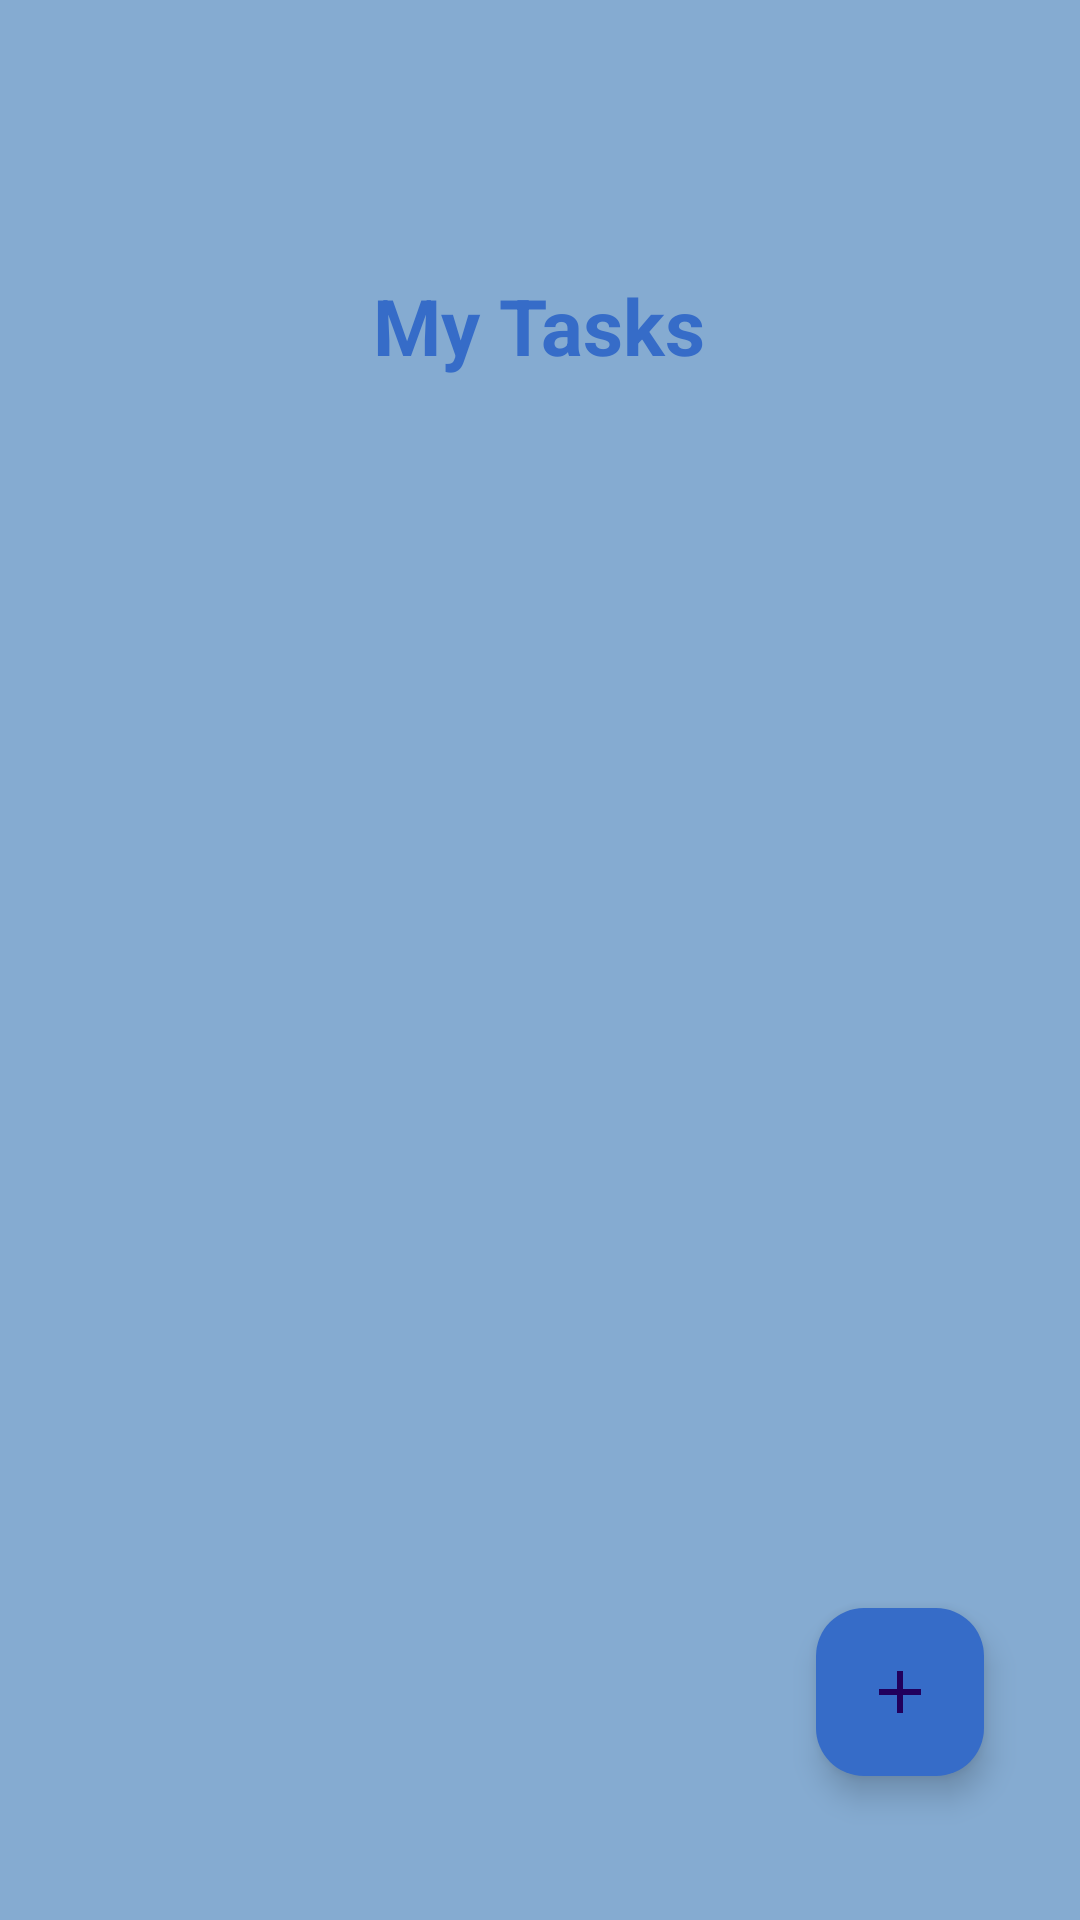

Icons on this 1080×1920 Android screen, each with the point to tap as (x=x, y=y):
add task: (x=900, y=1692)
